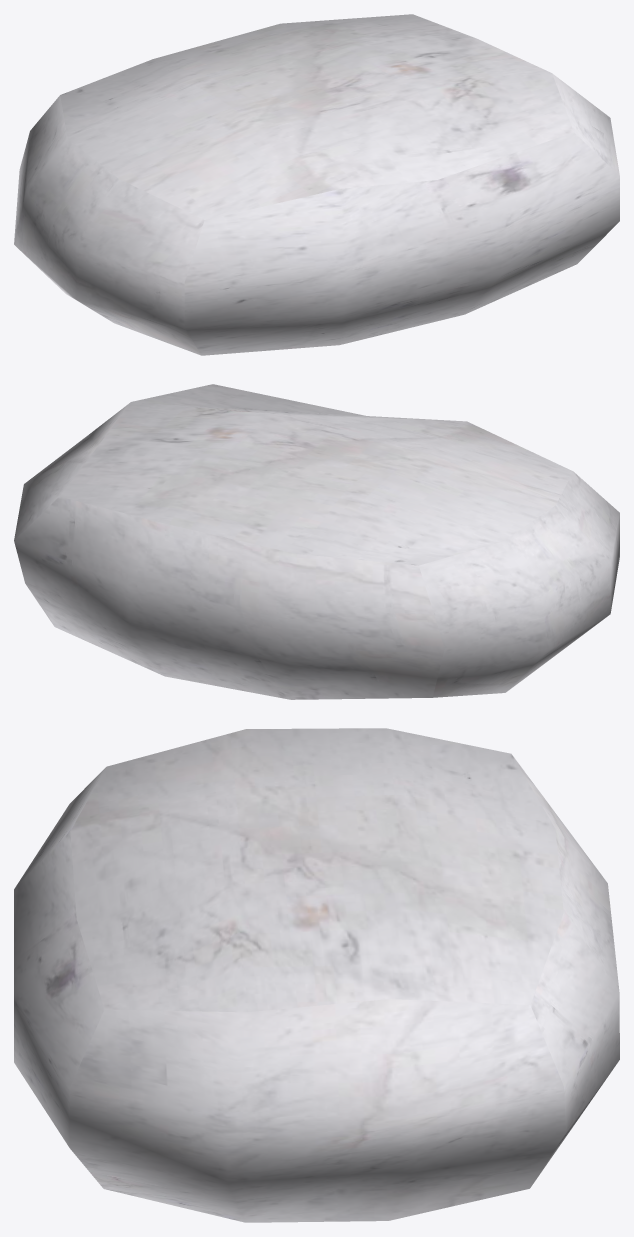
The model's file is Rock02.fbx.
3 views of the same model, one above another, from view 1: azimuth 30°, elevation 25°; view 2: azimuth 150°, elevation 25°; view 3: azimuth 270°, elevation 25° (orthographic). The views are drawn at different scales.
Visible parts, largest first — view 1: Cube; view 2: Cube; view 3: Cube.
Part boxes in pixels (bbox=[...]): Cube: bbox=[14, 14, 619, 355]; Cube: bbox=[14, 384, 619, 699]; Cube: bbox=[14, 728, 619, 1222].
Size of the model in its own units: 2.84 by 0.973 by 2.09.
1 material, 1 textured.
